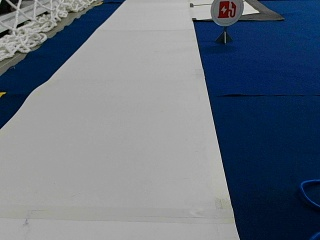battery: (210, 0, 245, 26)
